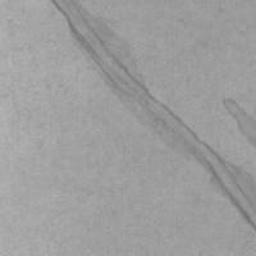Water spot: (50, 0, 256, 232), (221, 96, 256, 151)
